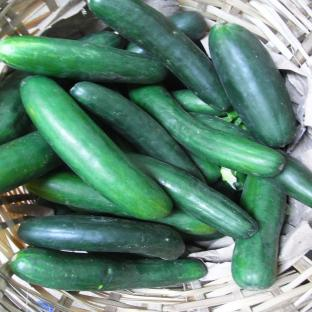Cucumber: (21, 76, 172, 219), (130, 85, 285, 176), (71, 82, 204, 180), (128, 154, 257, 239), (210, 23, 295, 147), (10, 248, 206, 291), (0, 36, 167, 83), (18, 215, 184, 259), (232, 176, 286, 290), (26, 172, 133, 218), (264, 150, 311, 207), (0, 71, 30, 144), (190, 113, 255, 140), (155, 207, 216, 234), (171, 90, 225, 115), (186, 150, 220, 184), (169, 11, 207, 41), (78, 31, 124, 48), (210, 179, 240, 204), (36, 198, 75, 215), (181, 231, 224, 242), (126, 43, 148, 54)
